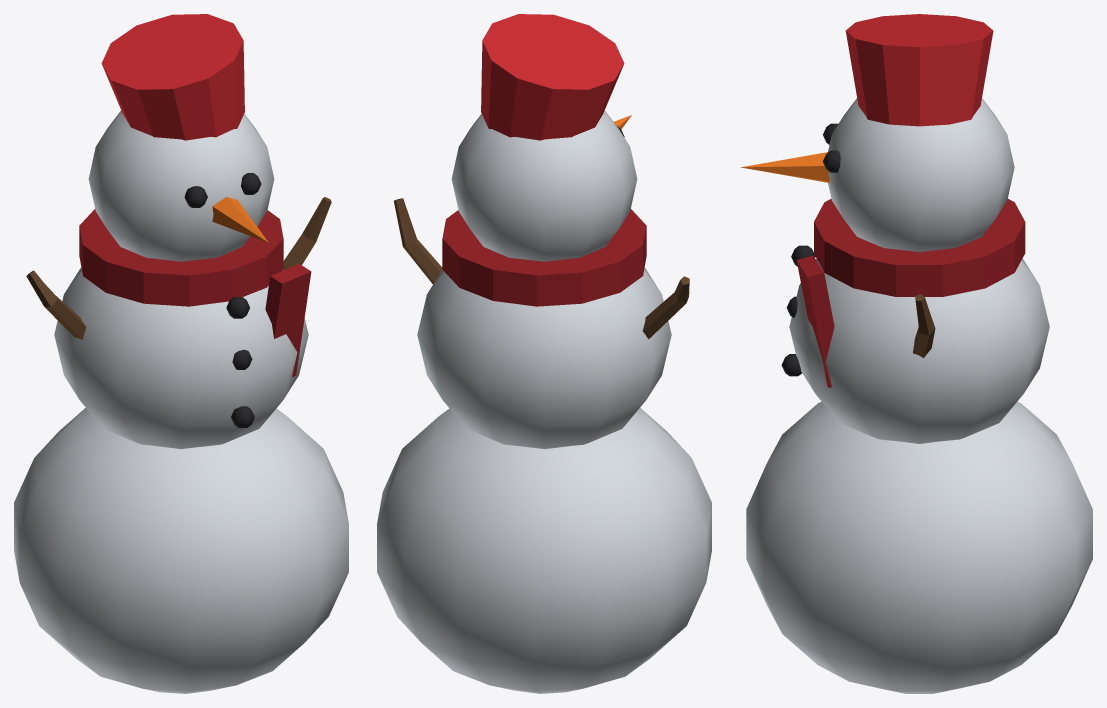
File: p_snowman.glb
The picture shows the model from 3 angles, left to right: view 1: azimuth 30°, elevation 25°; view 2: azimuth 150°, elevation 25°; view 3: azimuth 270°, elevation 25°; orthographic projection. The views are drawn at different scales.
Visible parts, largest first — view 1: snowman; view 2: snowman; view 3: snowman.
Part boxes in pixels (box(x1,y1,x2,y2)): snowman: box(14, 14, 348, 693); snowman: box(377, 14, 711, 693); snowman: box(741, 14, 1092, 693).
Size of the model in its own units: 1.01 by 2.06 by 1.
